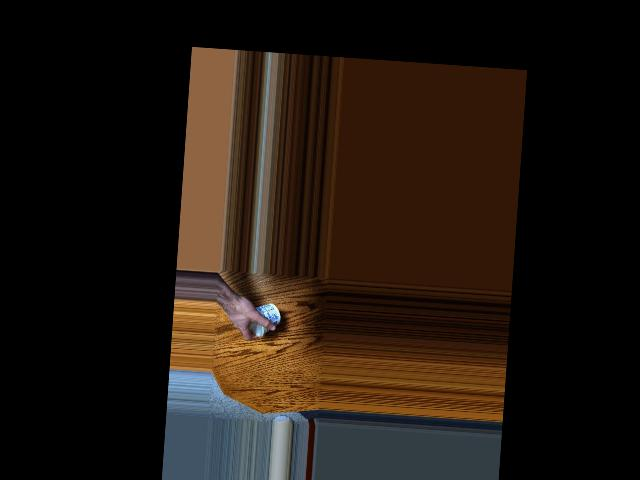cotage: (246, 301, 279, 337)
